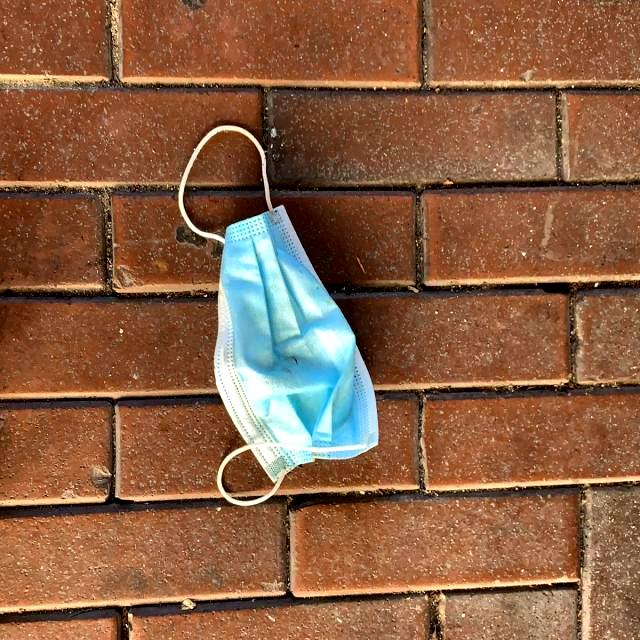Mask: (172, 119, 382, 511)
